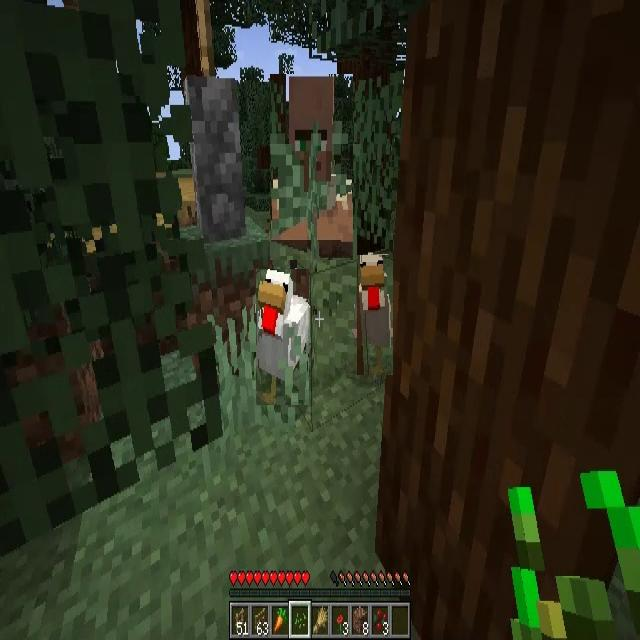duck: (256, 269, 309, 405), (357, 256, 393, 376)
people: (270, 74, 353, 260)
